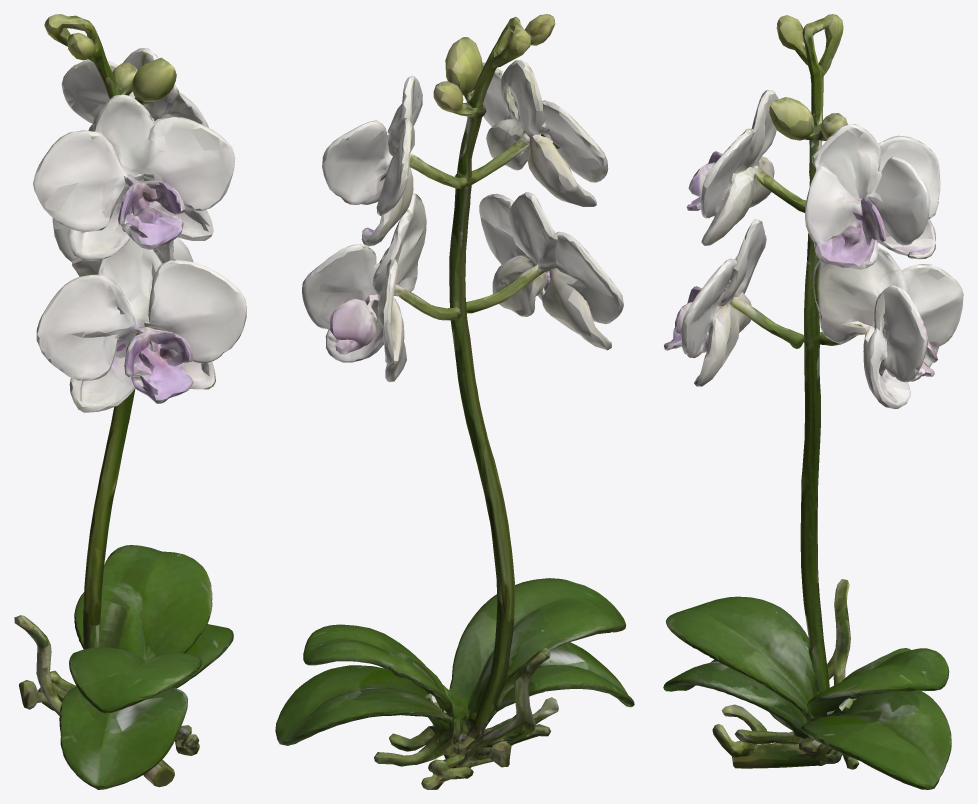
File: lux-orchid.glb
3 renders of one model, left to right at view 1: azimuth 30°, elevation 25°; view 2: azimuth 150°, elevation 25°; view 3: azimuth 270°, elevation 25°, orthographic. The views are drawn at different scales.
Visible parts, largest first — view 1: geometry_0; view 2: geometry_0; view 3: geometry_0.
Boxes of the visible parts, left/top/right/bottom form: geometry_0: left=14, top=14, right=246, bottom=789; geometry_0: left=275, top=14, right=634, bottom=789; geometry_0: left=663, top=14, right=963, bottom=789.
Bounding box in the file's own units: 0.2351 × 0.65 × 0.2437.
Materials: 1 (1 with a texture image).
